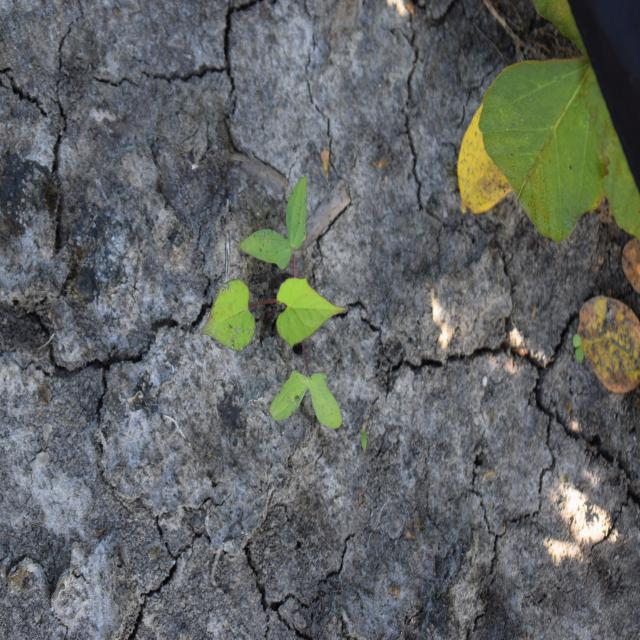MorningGlory: (198, 174, 349, 431)
